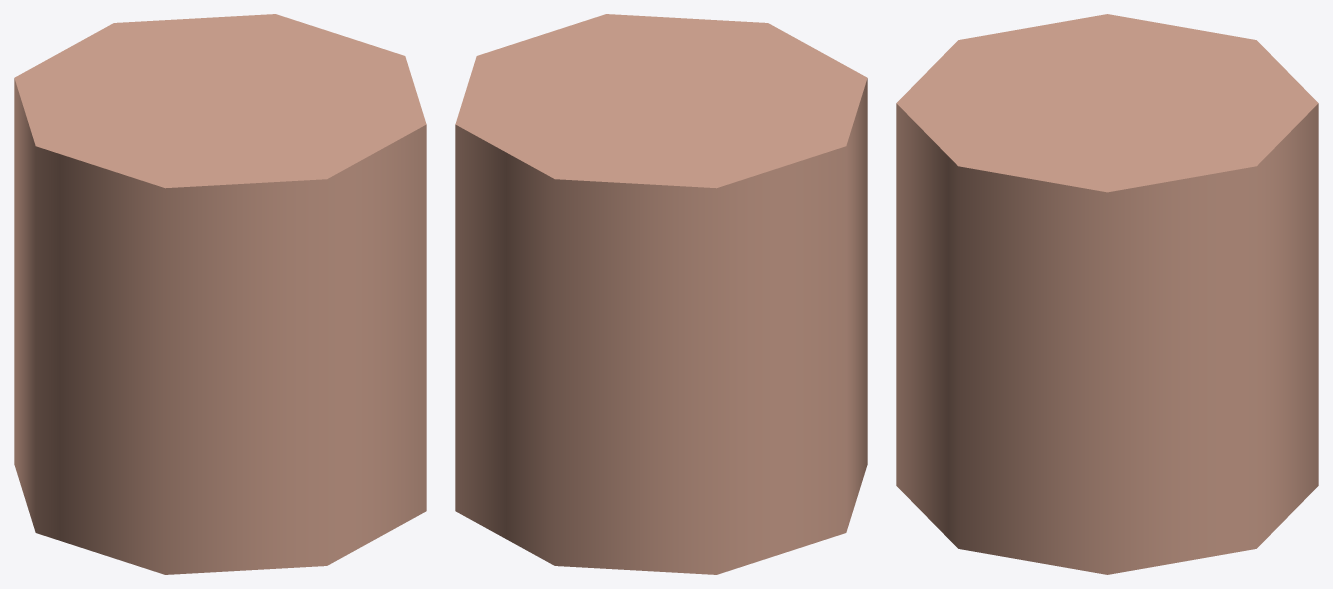
Rendered from mushrooms_01.glb.
3 views of the same model, side by side, from view 1: azimuth 30°, elevation 25°; view 2: azimuth 150°, elevation 25°; view 3: azimuth 270°, elevation 25° (orthographic).
Visible parts, largest first — view 1: mushrooms; view 2: mushrooms; view 3: mushrooms.
Part boxes in pixels (box(x1,y1,x2,y2)): mushrooms: box(14, 14, 426, 574); mushrooms: box(455, 14, 867, 574); mushrooms: box(896, 14, 1318, 574).
Bounding box in the file's own units: 0.8 × 0.8 × 0.8.
